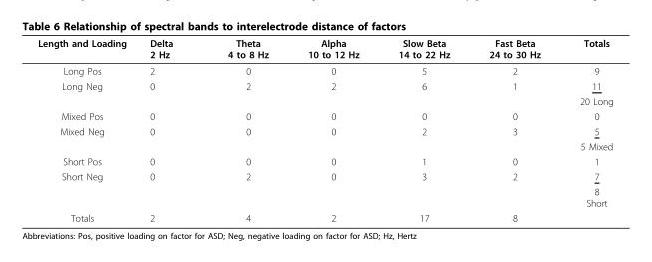table: (37, 37, 612, 223)
table column: (37, 37, 137, 223), (287, 37, 378, 223), (468, 37, 559, 223), (378, 37, 468, 223), (199, 37, 287, 223), (137, 37, 199, 223), (559, 37, 612, 223)
table column header: (37, 37, 612, 62)
table row: (37, 183, 612, 210), (37, 37, 612, 62), (37, 62, 612, 78), (37, 78, 612, 93), (37, 93, 612, 108), (37, 108, 612, 123), (37, 123, 612, 138), (37, 138, 612, 153), (37, 153, 612, 168), (37, 168, 612, 183), (37, 210, 612, 223)
table spanning cell: (37, 168, 137, 210), (37, 78, 137, 108), (37, 123, 137, 153)
